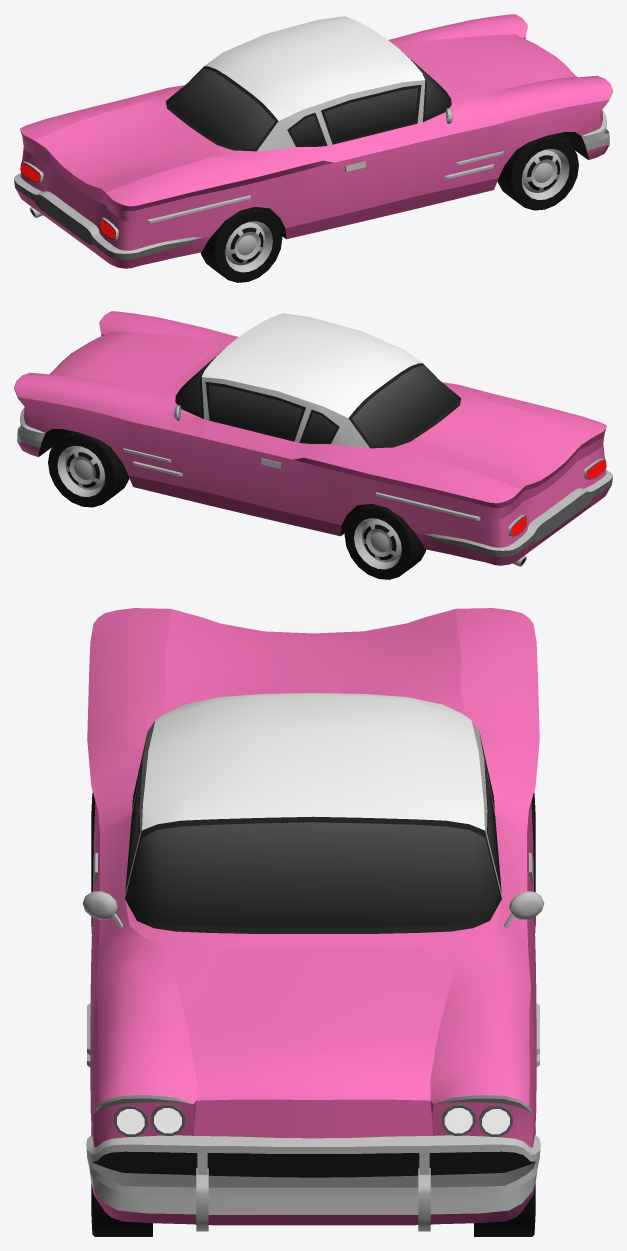
Rendered from Car_166.glb.
3 renders of one model, top to bottom at view 1: azimuth 30°, elevation 25°; view 2: azimuth 150°, elevation 25°; view 3: azimuth 270°, elevation 25°, orthographic. The views are drawn at different scales.
Visible parts, largest first — view 1: Car_166, wheel_1_Car_166_Wheel_1R, wheel_3_Car_166_Wheel_2R; view 2: Car_166, wheel_0_Car_166_Wheel_1L, wheel_2_Car_166_Wheel_2L; view 3: Car_166, wheel_0_Car_166_Wheel_1L, wheel_1_Car_166_Wheel_1R.
Boxes of the visible parts, <box> form: Car_166: <box>14,14,612,268</box>; wheel_1_Car_166_Wheel_1R: <box>497,133,578,210</box>; wheel_3_Car_166_Wheel_2R: <box>200,207,282,282</box>; Car_166: <box>14,311,612,566</box>; wheel_0_Car_166_Wheel_1L: <box>48,430,129,507</box>; wheel_2_Car_166_Wheel_2L: <box>344,504,426,579</box>; Car_166: <box>82,608,544,1231</box>; wheel_0_Car_166_Wheel_1L: <box>474,1128,535,1236</box>; wheel_1_Car_166_Wheel_1R: <box>91,1128,152,1236</box>.
Bounding box in the file's own units: 4.91 × 1.48 × 1.94.
Materials: 3 (3 with a texture image).
